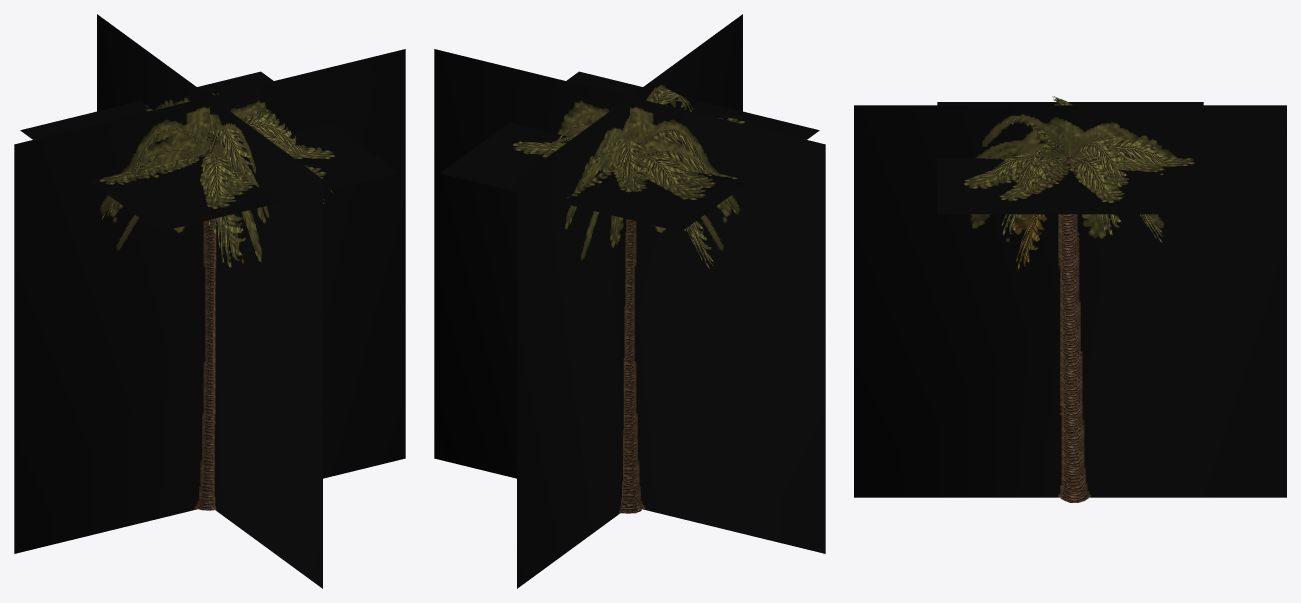
File: Palmeira_01_Torre_Costeira.glb
3 views of the same model, side by side, from view 1: azimuth 30°, elevation 25°; view 2: azimuth 150°, elevation 25°; view 3: azimuth 270°, elevation 25° (orthographic). The views are drawn at different scales.
Visible parts, largest first — view 1: Palmeira_01_Torre_Costeira impostor, Folhas novas, Caule, Folhas abertas, Folhas inferiores; view 2: Palmeira_01_Torre_Costeira impostor, Caule, Folhas novas, Folhas abertas; view 3: Palmeira_01_Torre_Costeira impostor, Caule, Folhas abertas, Folhas novas, Folhas inferiores.
Part boxes in pixels (bbox=[...]): Palmeira_01_Torre_Costeira impostor: bbox=[14, 14, 405, 588]; Folhas novas: bbox=[131, 93, 302, 180]; Caule: bbox=[198, 219, 214, 510]; Folhas abertas: bbox=[102, 104, 332, 234]; Folhas inferiores: bbox=[215, 214, 245, 267]; Palmeira_01_Torre_Costeira impostor: bbox=[434, 14, 825, 588]; Caule: bbox=[620, 219, 641, 513]; Folhas novas: bbox=[545, 88, 706, 191]; Folhas abertas: bbox=[544, 136, 736, 238]; Palmeira_01_Torre_Costeira impostor: bbox=[854, 102, 1286, 497]; Caule: bbox=[1060, 214, 1088, 502]; Folhas abertas: bbox=[970, 140, 1171, 235]; Folhas novas: bbox=[996, 96, 1127, 190]; Folhas inferiores: bbox=[1016, 214, 1163, 269].
Size of what is drawn, in the model's own units: 14.63 by 14.63 by 14.63.
3 materials, 3 textured.
